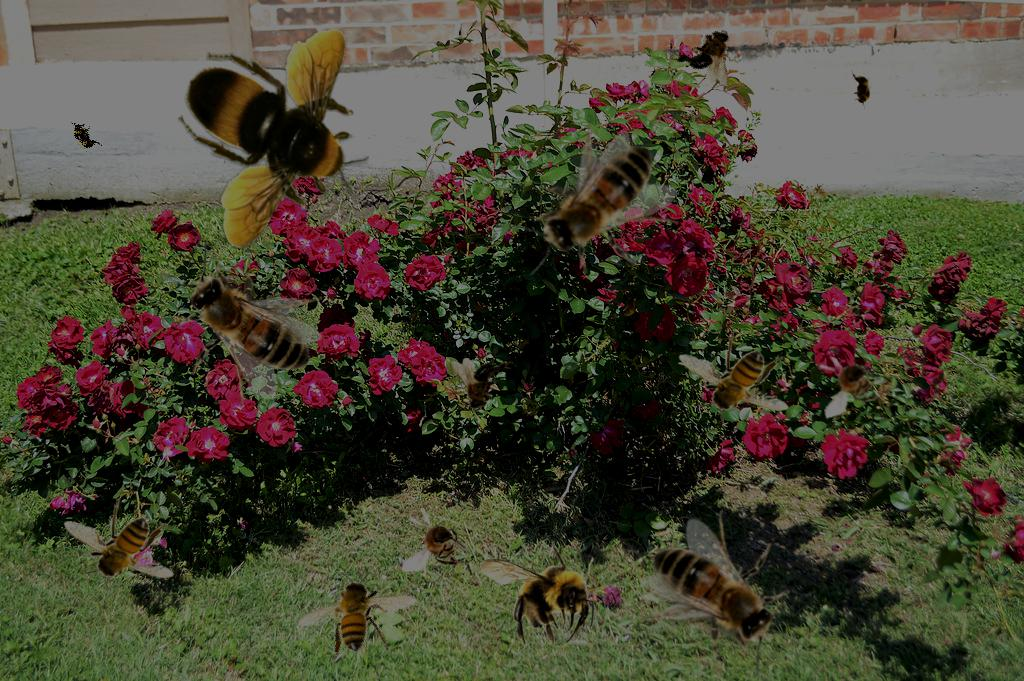Bee: (178, 29, 369, 249), (498, 110, 697, 304), (641, 510, 803, 677), (160, 241, 322, 408), (287, 544, 434, 681), (479, 540, 594, 647), (63, 498, 174, 592), (678, 331, 789, 425), (809, 342, 894, 420), (669, 14, 748, 90), (402, 511, 472, 572), (451, 358, 513, 411), (63, 113, 105, 159), (851, 70, 873, 110)
